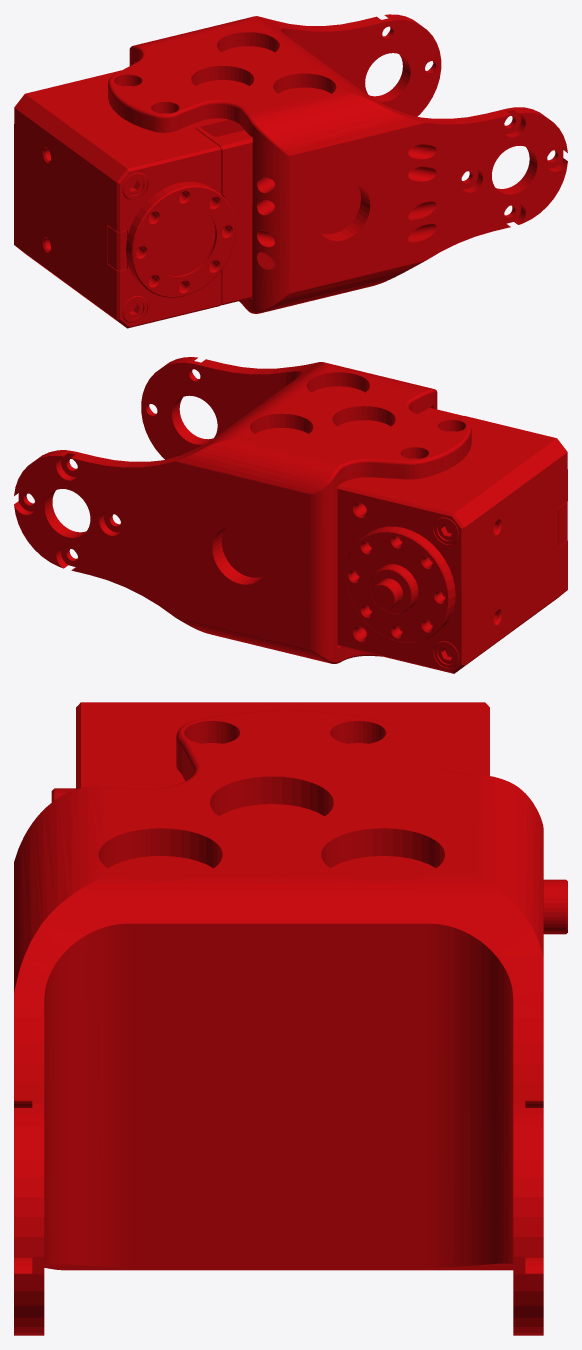
3 views of the same model, one above another, from view 1: azimuth 30°, elevation 25°; view 2: azimuth 150°, elevation 25°; view 3: azimuth 270°, elevation 25° (orthographic). The views are drawn at different scales.
Visible parts, largest first — view 1: link3; view 2: link3; view 3: link3.
Part boxes in pixels (bbox=[...]): link3: bbox=[14, 14, 567, 328]; link3: bbox=[14, 357, 567, 673]; link3: bbox=[14, 702, 567, 1335].
Size of the model in its own units: 81.16 by 35.05 by 45.5.
